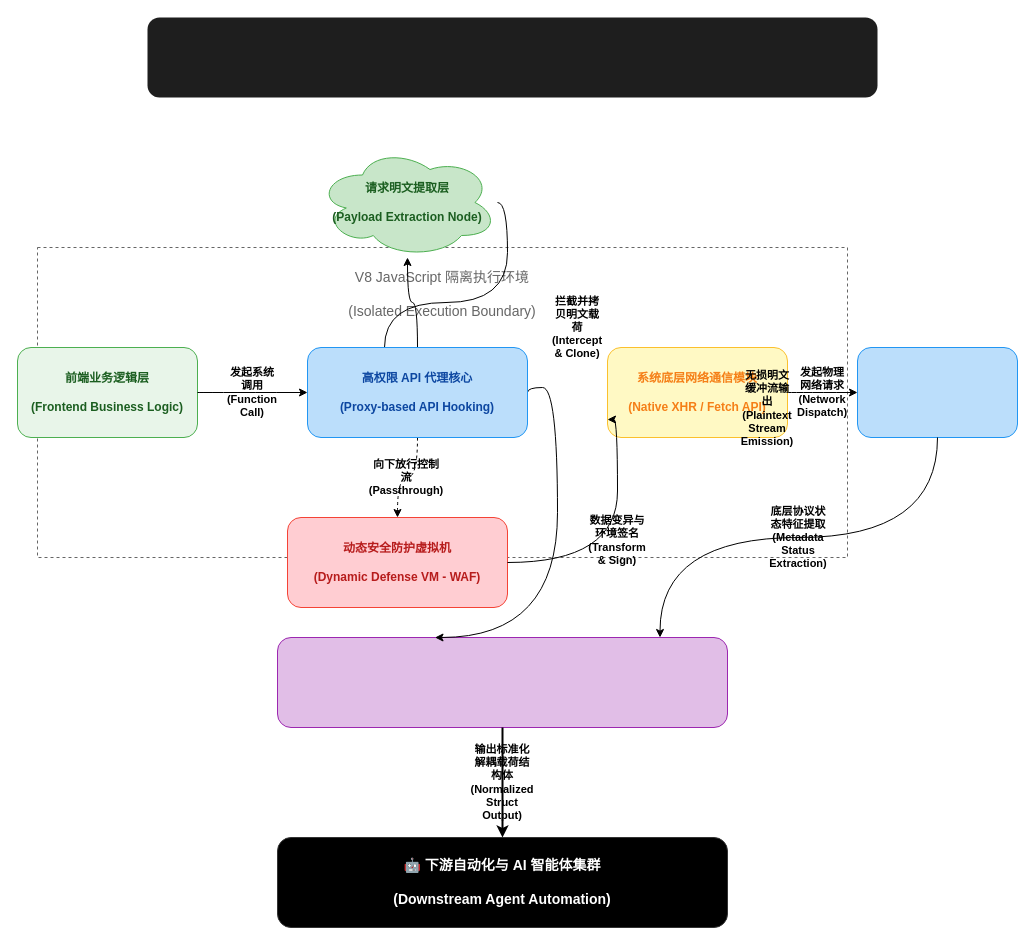
The diagram is 1035 pixels wide and 945 high, and some of its shapes have lost their labels. Each missing label, with the box of its shape:
同构沙盒流量治理与分层遥测架构 (Heterogeneous Traffic Governance Architecture): (147, 17, 877, 97)
跨层级协议观测器 (CDP Protocol Telemetry): (856, 346, 1018, 438)
🚀 协议降噪与数据重组中间件 (Telemetry Normalization Engine): (276, 636, 728, 728)
